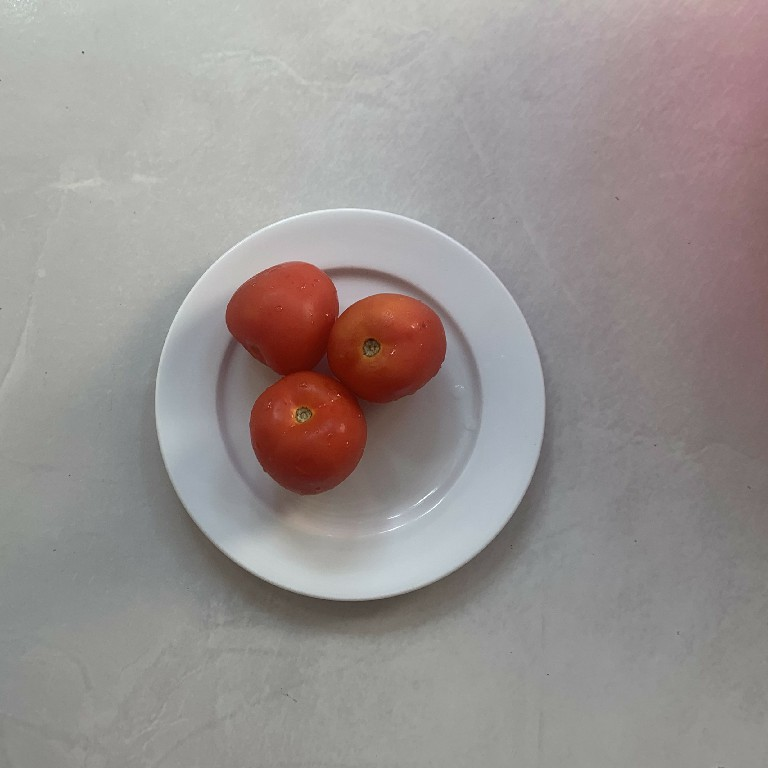OK: (246, 370, 370, 499), (323, 289, 454, 408), (223, 257, 337, 370)
